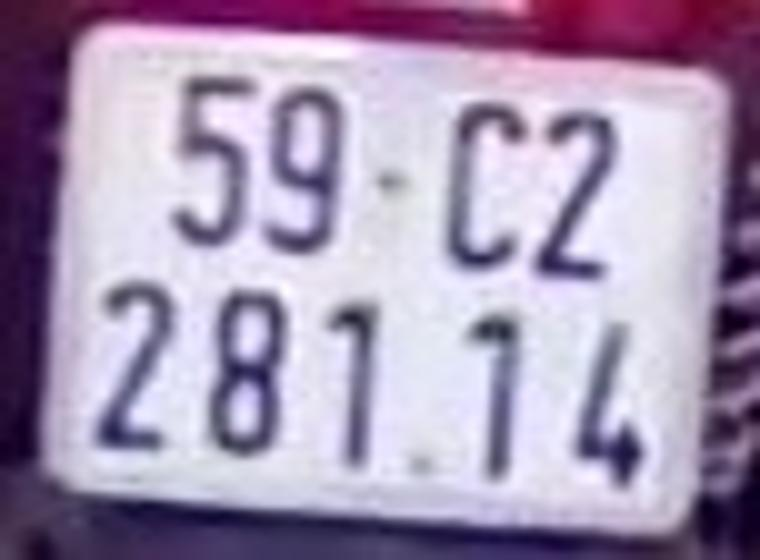-: (374, 158, 419, 204)
.: (403, 440, 439, 485)
1: (463, 305, 522, 484), (323, 294, 378, 474)
2: (533, 108, 622, 280), (97, 278, 175, 454)
4: (571, 318, 643, 486)
5: (168, 68, 254, 256)
8: (206, 285, 286, 460)
9: (265, 82, 348, 260)
C: (437, 97, 523, 273)
